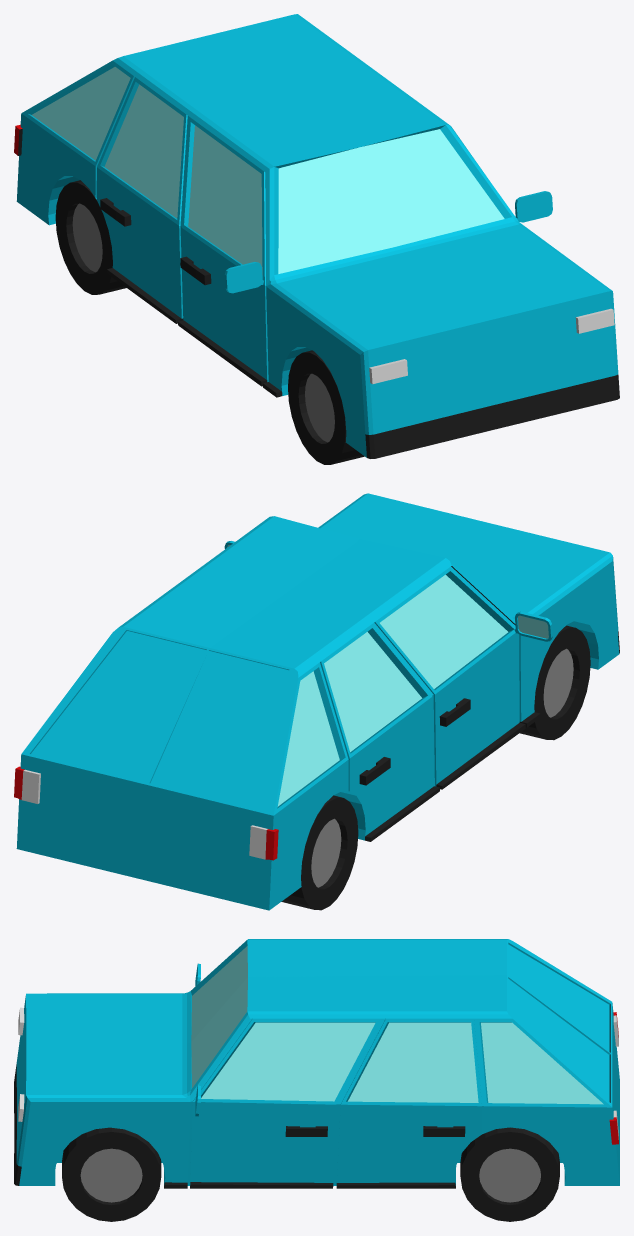
Rendered from Car1.fbx.
3 renders of one model, top to bottom at view 1: azimuth 30°, elevation 25°; view 2: azimuth 150°, elevation 25°; view 3: azimuth 270°, elevation 25°, orthographic. The views are drawn at different scales.
Visible parts, largest first — view 1: Cube, Cylinder.001; view 2: Cube, Cylinder.001; view 3: Cube, Cylinder.001.
Boxes of the visible parts, x1=… form: Cube: x1=14, y1=14, x2=619, y2=458; Cylinder.001: x1=55, y1=180, x2=364, y2=464; Cube: x1=14, y1=493, x2=619, y2=910; Cylinder.001: x1=281, y1=625, x2=590, y2=910; Cube: x1=14, y1=939, x2=619, y2=1188; Cylinder.001: x1=62, y1=1127, x2=559, y2=1221.
Bounding box in the file's own units: 160 × 107 × 301.
